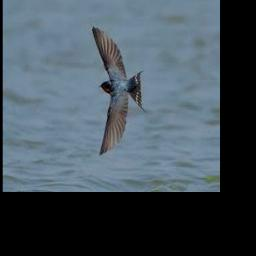Swallow: (93, 26, 150, 156)
